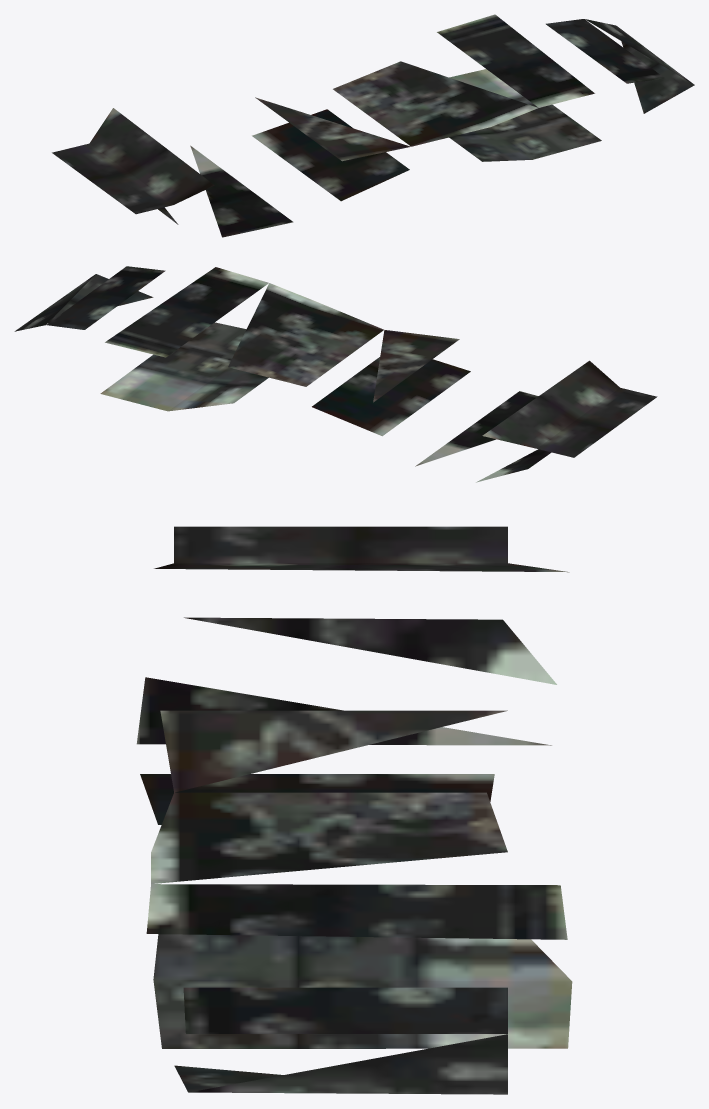
File: ITBE.glb
3 views of the same model, one above another, from view 1: azimuth 30°, elevation 25°; view 2: azimuth 150°, elevation 25°; view 3: azimuth 270°, elevation 25° (orthographic). The views are drawn at different scales.
Parts seen in each view (by area): view 1: zengin; view 2: zengin; view 3: zengin.
Boxes of the visible parts, x1,y1,x2,y2 form: zengin: [52, 14, 694, 237]; zengin: [14, 266, 657, 482]; zengin: [136, 526, 572, 1094].
Bounding box in the file's own units: 0.2908 × 0.0257 × 0.0918.
Materials: 1 (1 with a texture image).
